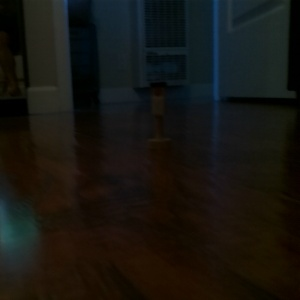traffic light red: (145, 79, 174, 154)
